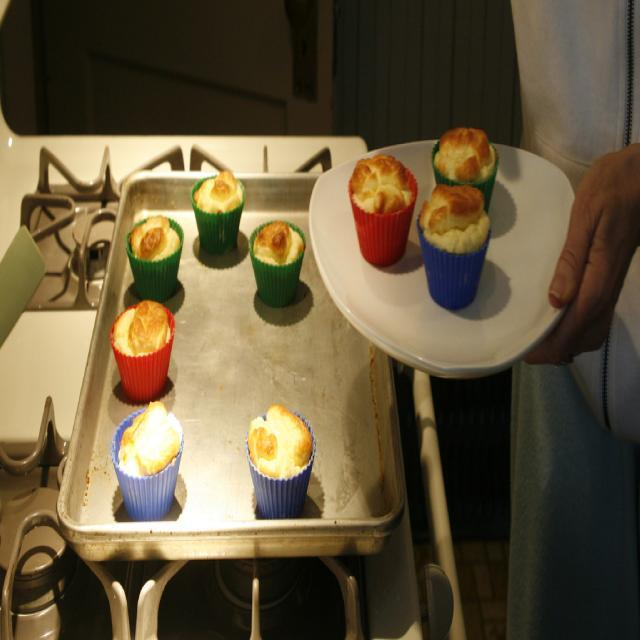Muffin: (242, 402, 317, 524), (111, 397, 184, 521), (417, 188, 491, 310), (349, 155, 417, 267), (110, 300, 175, 404), (430, 123, 499, 215), (249, 216, 307, 308), (126, 212, 184, 298), (190, 169, 246, 254)
